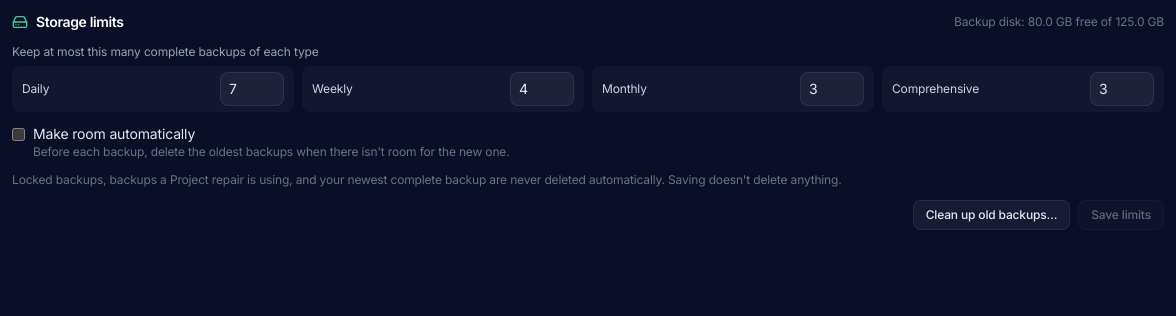
backup storage limits › saves limits without cleaning up anything
Check: the text "Backup disk: 80.0 GB free of 125.0 GB" is shown, box [954, 14, 1164, 30]
Check: the button "Save limits" is disabled, box [1078, 200, 1164, 230]
Replace the text in the number field named "Keep daily backups" with "2" at {"x": 252, "y": 89}, box [220, 72, 284, 106]
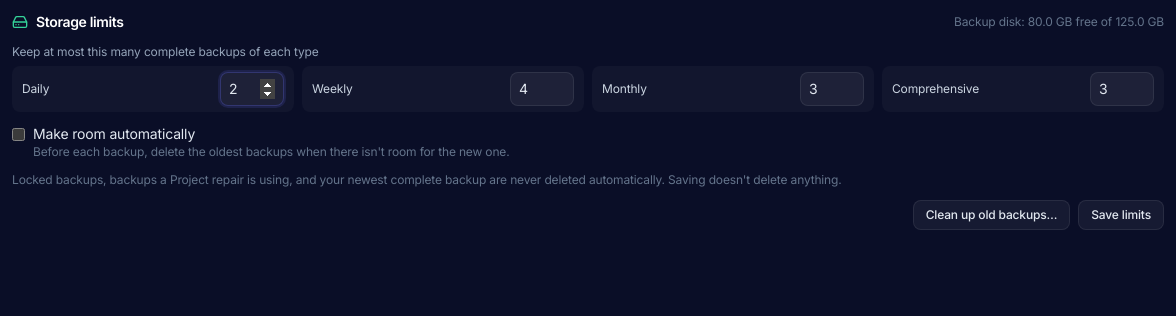
Click the checkbox labelled "Make room automatically" at {"x": 18, "y": 134}, box [12, 128, 25, 141]
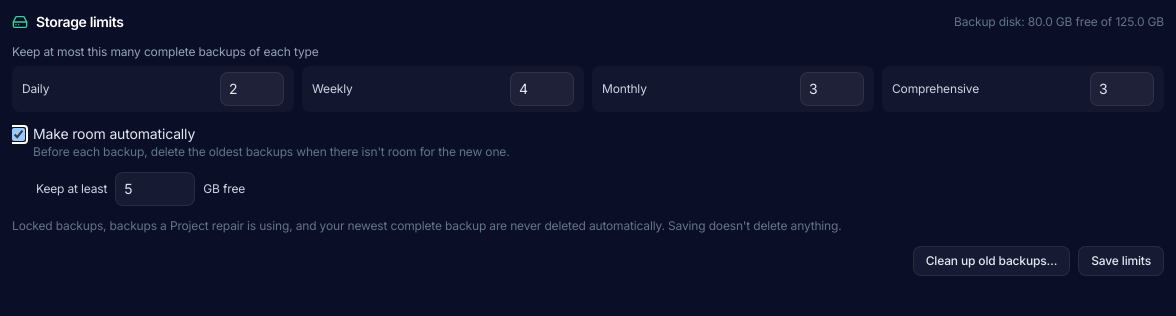
Replace the text in the number field named "Free space to keep in GB" with "12" at {"x": 155, "y": 189}, box [115, 172, 195, 206]
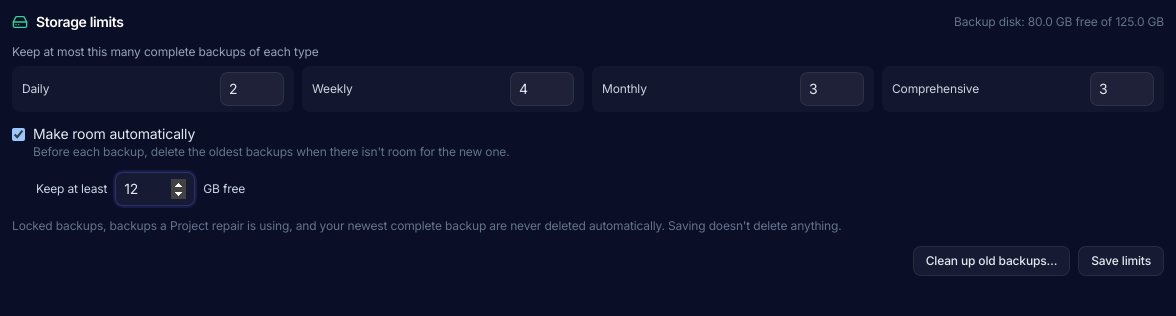
Click the button "Save limits" at {"x": 1121, "y": 261}, box [1078, 246, 1164, 276]
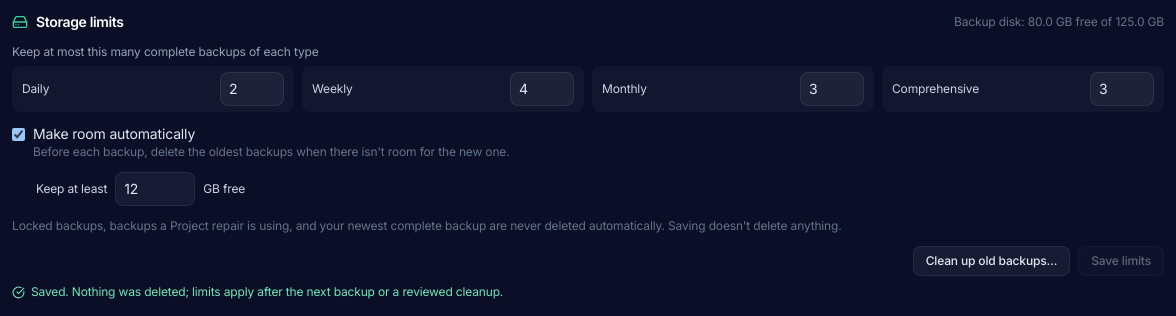
Check: the text "Saved. Nothing was deleted" is shown, box [31, 284, 503, 299]
